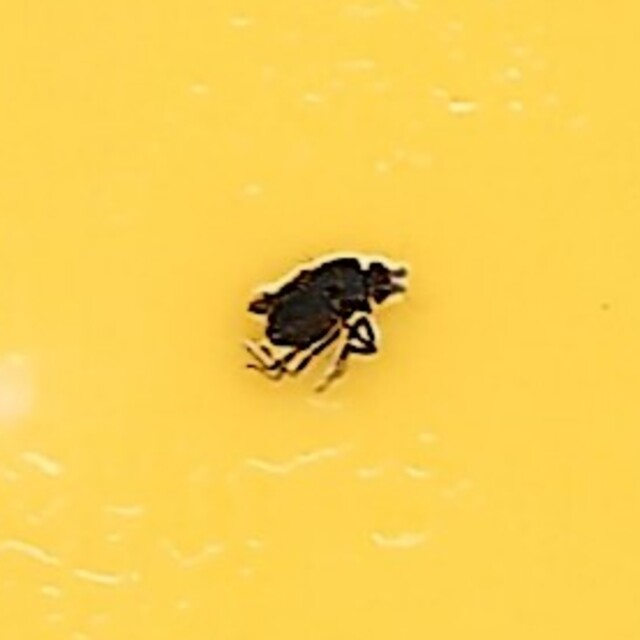Brachycera: (231, 243, 409, 397)
